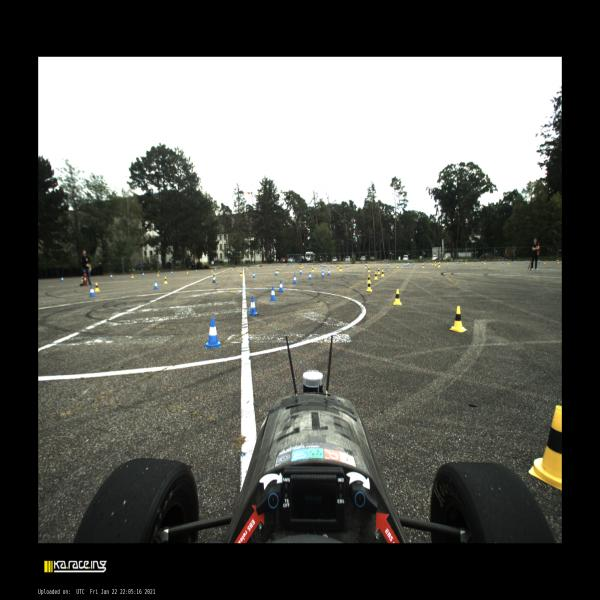blue_cone: (205, 318, 221, 349), (248, 296, 258, 316), (270, 286, 277, 301), (278, 280, 284, 292), (90, 286, 95, 296), (154, 281, 159, 289), (293, 275, 297, 283), (212, 275, 216, 283), (309, 272, 312, 280), (321, 271, 325, 277), (274, 270, 278, 276), (61, 276, 64, 282), (328, 269, 330, 275), (300, 268, 302, 274), (253, 272, 255, 278), (110, 274, 112, 278), (171, 270, 173, 274), (346, 264, 348, 268), (502, 260, 504, 264), (514, 260, 516, 264), (408, 262, 410, 266), (413, 262, 415, 265), (482, 261, 484, 264), (324, 264, 326, 267), (143, 272, 144, 276), (388, 263, 389, 267), (404, 263, 405, 267), (424, 262, 426, 264), (538, 260, 540, 262), (230, 268, 232, 270), (255, 266, 257, 268), (295, 264, 297, 266), (316, 264, 318, 266), (244, 266, 245, 270), (320, 264, 322, 266), (366, 264, 368, 266), (457, 261, 458, 264), (526, 260, 527, 263), (215, 268, 216, 271), (331, 264, 332, 267), (285, 264, 286, 267), (323, 264, 324, 267), (407, 263, 408, 266), (196, 270, 197, 272), (306, 264, 307, 266), (271, 265, 272, 267), (322, 264, 323, 266)
yellow_cone: (528, 405, 562, 491), (450, 306, 466, 333), (393, 289, 402, 305), (366, 280, 372, 292), (94, 282, 100, 292), (163, 276, 168, 284), (374, 272, 378, 280), (212, 272, 216, 279), (381, 269, 384, 277), (377, 268, 380, 274), (311, 266, 314, 272), (81, 276, 84, 282), (339, 266, 342, 271), (396, 263, 399, 268), (368, 266, 370, 272), (314, 265, 317, 269), (446, 261, 449, 265), (240, 270, 242, 276), (364, 263, 366, 268), (558, 259, 560, 264), (508, 260, 510, 265), (434, 261, 436, 266), (422, 263, 424, 268), (277, 268, 279, 273), (337, 264, 339, 268), (544, 260, 546, 264), (465, 260, 467, 264), (438, 263, 440, 267), (132, 274, 134, 278), (157, 272, 159, 276), (186, 270, 188, 274), (269, 264, 271, 268), (432, 262, 434, 265), (211, 269, 213, 272), (293, 264, 295, 267), (300, 265, 302, 268), (484, 260, 485, 264), (232, 268, 234, 270), (246, 267, 248, 269), (257, 266, 259, 268), (283, 264, 284, 268), (302, 264, 303, 267)
